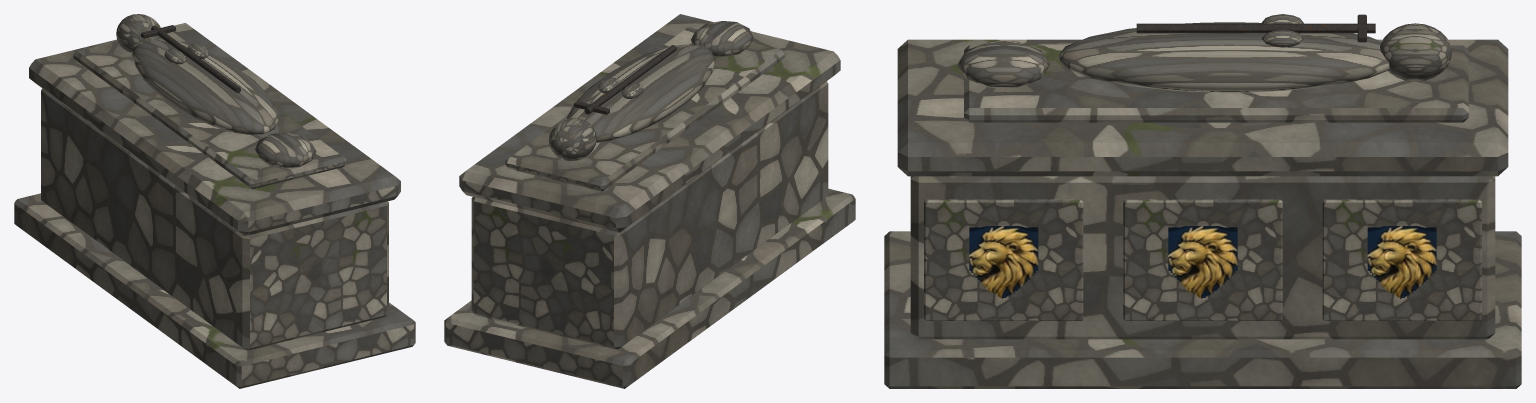
The model's file is sarcophagus.glb.
3 views of the same model, side by side, from view 1: azimuth 30°, elevation 25°; view 2: azimuth 150°, elevation 25°; view 3: azimuth 270°, elevation 25° (orthographic). The views are drawn at different scales.
Parts seen in each view (by area): view 1: sarcophagus; view 2: sarcophagus; view 3: sarcophagus.
Part boxes in pixels (x1,y1,x2,y2): sarcophagus: (14, 14, 415, 388); sarcophagus: (444, 14, 855, 388); sarcophagus: (884, 14, 1521, 388).
Bounding box in the file's own units: 1.1 × 1.27 × 2.4.
Materials: 1 (1 with a texture image).
